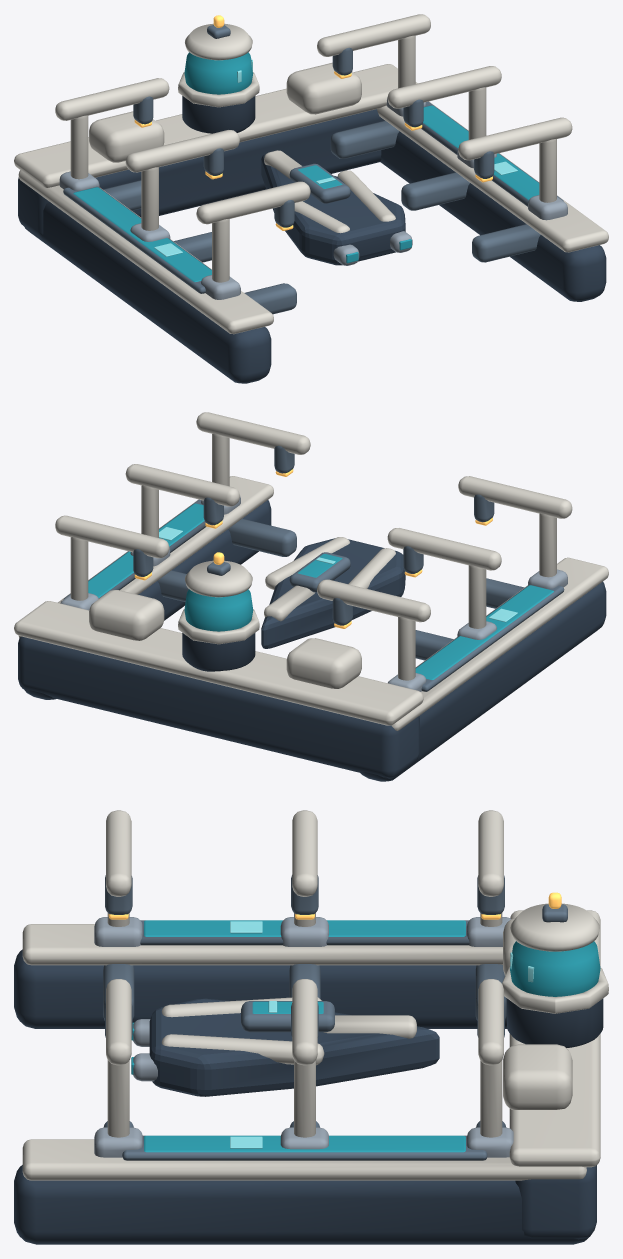
Rendered from orbital_shipyard_lv3.glb.
3 views of the same model, one above another, from view 1: azimuth 30°, elevation 25°; view 2: azimuth 150°, elevation 25°; view 3: azimuth 270°, elevation 25° (orthographic). The views are drawn at different scales.
Parts seen in each view (by area): view 1: Structure; view 2: Structure; view 3: Structure.
Part boxes in pixels (box(x1,y1,x2,y2)): Structure: box(14, 14, 608, 383); Structure: box(14, 412, 608, 781); Structure: box(14, 810, 608, 1244).
Size of the model in its own units: 8.17 by 3.69 by 8.38.
